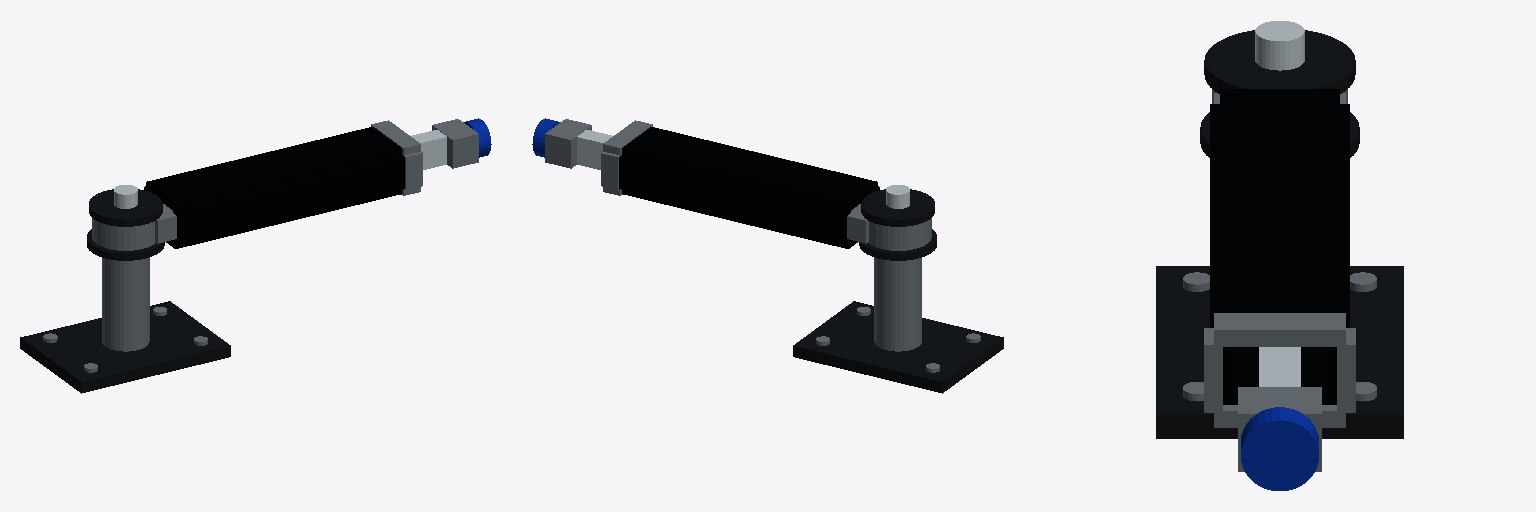
URDF robot description (hinged_extension_service_module):
<robot name="hinged_extension_service_module">
  <material name="dark_steel">
    <color rgba="0.09 0.1 0.11 1" />
    </material>
  <material name="cast_metal">
    <color rgba="0.42 0.45 0.47 1" />
    </material>
  <material name="rail_black">
    <color rgba="0.015 0.017 0.02 1" />
    </material>
  <material name="slide_chrome">
    <color rgba="0.72 0.76 0.78 1" />
    </material>
  <material name="rubber_blue">
    <color rgba="0.05 0.22 0.65 1" />
    </material>
  <link name="support">
    <visual name="base_plate">
      <origin xyz="0 0 0.0125" rpy="0 0 0" />
      <geometry>
        <box size="0.34 0.24 0.025" />
        </geometry>
      <material name="dark_steel">
        <color rgba="0.09 0.1 0.11 1" />
        </material>
      </visual>
    <visual name="pedestal">
      <origin xyz="0 0 0.1325" rpy="0 0 0" />
      <geometry>
        <cylinder radius="0.047" length="0.215" />
        </geometry>
      <material name="cast_metal">
        <color rgba="0.42 0.45 0.47 1" />
        </material>
      </visual>
    <visual name="lower_bearing">
      <origin xyz="0 0 0.244" rpy="0 0 0" />
      <geometry>
        <cylinder radius="0.077" length="0.016" />
        </geometry>
      <material name="dark_steel">
        <color rgba="0.09 0.1 0.11 1" />
        </material>
      </visual>
    <visual name="upper_bearing">
      <origin xyz="0 0 0.316" rpy="0 0 0" />
      <geometry>
        <cylinder radius="0.073" length="0.016" />
        </geometry>
      <material name="dark_steel">
        <color rgba="0.09 0.1 0.11 1" />
        </material>
      </visual>
    <visual name="hinge_pin">
      <origin xyz="0 0 0.28" rpy="0 0 0" />
      <geometry>
        <cylinder radius="0.024" length="0.15" />
        </geometry>
      <material name="slide_chrome">
        <color rgba="0.72 0.76 0.78 1" />
        </material>
      </visual>
    <visual name="mount_bolt_0_0">
      <origin xyz="-0.125 -0.08 0.0285" rpy="0 0 0" />
      <geometry>
        <cylinder radius="0.014" length="0.009" />
        </geometry>
      <material name="cast_metal">
        <color rgba="0.42 0.45 0.47 1" />
        </material>
      </visual>
    <visual name="mount_bolt_0_1">
      <origin xyz="-0.125 0.08 0.0285" rpy="0 0 0" />
      <geometry>
        <cylinder radius="0.014" length="0.009" />
        </geometry>
      <material name="cast_metal">
        <color rgba="0.42 0.45 0.47 1" />
        </material>
      </visual>
    <visual name="mount_bolt_1_0">
      <origin xyz="0.125 -0.08 0.0285" rpy="0 0 0" />
      <geometry>
        <cylinder radius="0.014" length="0.009" />
        </geometry>
      <material name="cast_metal">
        <color rgba="0.42 0.45 0.47 1" />
        </material>
      </visual>
    <visual name="mount_bolt_1_1">
      <origin xyz="0.125 0.08 0.0285" rpy="0 0 0" />
      <geometry>
        <cylinder radius="0.014" length="0.009" />
        </geometry>
      <material name="cast_metal">
        <color rgba="0.42 0.45 0.47 1" />
        </material>
      </visual>
    <collision name="base_plate">
      <origin xyz="0 0 0.0125" rpy="0 0 0" />
      <geometry>
        <box size="0.34 0.24 0.025" />
        </geometry>
      </collision>
    <collision name="pedestal">
      <origin xyz="0 0 0.1325" rpy="0 0 0" />
      <geometry>
        <cylinder radius="0.047" length="0.215" />
        </geometry>
      </collision>
    <collision name="lower_bearing">
      <origin xyz="0 0 0.244" rpy="0 0 0" />
      <geometry>
        <cylinder radius="0.077" length="0.016" />
        </geometry>
      </collision>
    <collision name="upper_bearing">
      <origin xyz="0 0 0.316" rpy="0 0 0" />
      <geometry>
        <cylinder radius="0.073" length="0.016" />
        </geometry>
      </collision>
    <collision name="hinge_pin">
      <origin xyz="0 0 0.28" rpy="0 0 0" />
      <geometry>
        <cylinder radius="0.024" length="0.15" />
        </geometry>
      </collision>
    <collision name="mount_bolt_0_0">
      <origin xyz="-0.125 -0.08 0.0285" rpy="0 0 0" />
      <geometry>
        <cylinder radius="0.014" length="0.009" />
        </geometry>
      </collision>
    <collision name="mount_bolt_0_1">
      <origin xyz="-0.125 0.08 0.0285" rpy="0 0 0" />
      <geometry>
        <cylinder radius="0.014" length="0.009" />
        </geometry>
      </collision>
    <collision name="mount_bolt_1_0">
      <origin xyz="0.125 -0.08 0.0285" rpy="0 0 0" />
      <geometry>
        <cylinder radius="0.014" length="0.009" />
        </geometry>
      </collision>
    <collision name="mount_bolt_1_1">
      <origin xyz="0.125 0.08 0.0285" rpy="0 0 0" />
      <geometry>
        <cylinder radius="0.014" length="0.009" />
        </geometry>
      </collision>
    </link>
  <link name="arm">
    <visual name="hinge_hub">
      <geometry>
        <cylinder radius="0.066" length="0.055" />
        </geometry>
      <material name="cast_metal">
        <color rgba="0.42 0.45 0.47 1" />
        </material>
      </visual>
    <visual name="upper_rail">
      <origin xyz="0.35 0 0.04" rpy="0 0 0" />
      <geometry>
        <box size="0.54 0.116 0.02" />
        </geometry>
      <material name="rail_black">
        <color rgba="0.015 0.017 0.02 1" />
        </material>
      </visual>
    <visual name="lower_rail">
      <origin xyz="0.35 0 -0.04" rpy="0 0 0" />
      <geometry>
        <box size="0.54 0.116 0.02" />
        </geometry>
      <material name="rail_black">
        <color rgba="0.015 0.017 0.02 1" />
        </material>
      </visual>
    <visual name="side_rail_0">
      <origin xyz="0.35 0.058 0" rpy="0 0 0" />
      <geometry>
        <box size="0.54 0.02 0.07" />
        </geometry>
      <material name="rail_black">
        <color rgba="0.015 0.017 0.02 1" />
        </material>
      </visual>
    <visual name="side_rail_1">
      <origin xyz="0.35 -0.058 0" rpy="0 0 0" />
      <geometry>
        <box size="0.54 0.02 0.07" />
        </geometry>
      <material name="rail_black">
        <color rgba="0.015 0.017 0.02 1" />
        </material>
      </visual>
    <visual name="root_clamp">
      <origin xyz="0.063 0 0" rpy="0 0 0" />
      <geometry>
        <box size="0.055 0.128 0.05" />
        </geometry>
      <material name="cast_metal">
        <color rgba="0.42 0.45 0.47 1" />
        </material>
      </visual>
    <visual name="distal_collar_top">
      <origin xyz="0.615 0 0.043" rpy="0 0 0" />
      <geometry>
        <box size="0.04 0.128 0.018" />
        </geometry>
      <material name="cast_metal">
        <color rgba="0.42 0.45 0.47 1" />
        </material>
      </visual>
    <visual name="distal_collar_bottom">
      <origin xyz="0.615 0 -0.043" rpy="0 0 0" />
      <geometry>
        <box size="0.04 0.128 0.018" />
        </geometry>
      <material name="cast_metal">
        <color rgba="0.42 0.45 0.47 1" />
        </material>
      </visual>
    <visual name="distal_collar_side_0">
      <origin xyz="0.615 0.064 0" rpy="0 0 0" />
      <geometry>
        <box size="0.04 0.018 0.072" />
        </geometry>
      <material name="cast_metal">
        <color rgba="0.42 0.45 0.47 1" />
        </material>
      </visual>
    <visual name="distal_collar_side_1">
      <origin xyz="0.615 -0.064 0" rpy="0 0 0" />
      <geometry>
        <box size="0.04 0.018 0.072" />
        </geometry>
      <material name="cast_metal">
        <color rgba="0.42 0.45 0.47 1" />
        </material>
      </visual>
    <collision name="hinge_hub">
      <geometry>
        <cylinder radius="0.066" length="0.055" />
        </geometry>
      </collision>
    <collision name="upper_rail">
      <origin xyz="0.35 0 0.04" rpy="0 0 0" />
      <geometry>
        <box size="0.54 0.116 0.02" />
        </geometry>
      </collision>
    <collision name="lower_rail">
      <origin xyz="0.35 0 -0.04" rpy="0 0 0" />
      <geometry>
        <box size="0.54 0.116 0.02" />
        </geometry>
      </collision>
    <collision name="side_rail_0">
      <origin xyz="0.35 0.058 0" rpy="0 0 0" />
      <geometry>
        <box size="0.54 0.02 0.07" />
        </geometry>
      </collision>
    <collision name="side_rail_1">
      <origin xyz="0.35 -0.058 0" rpy="0 0 0" />
      <geometry>
        <box size="0.54 0.02 0.07" />
        </geometry>
      </collision>
    <collision name="root_clamp">
      <origin xyz="0.063 0 0" rpy="0 0 0" />
      <geometry>
        <box size="0.055 0.128 0.05" />
        </geometry>
      </collision>
    <collision name="distal_collar_top">
      <origin xyz="0.615 0 0.043" rpy="0 0 0" />
      <geometry>
        <box size="0.04 0.128 0.018" />
        </geometry>
      </collision>
    <collision name="distal_collar_bottom">
      <origin xyz="0.615 0 -0.043" rpy="0 0 0" />
      <geometry>
        <box size="0.04 0.128 0.018" />
        </geometry>
      </collision>
    <collision name="distal_collar_side_0">
      <origin xyz="0.615 0.064 0" rpy="0 0 0" />
      <geometry>
        <box size="0.04 0.018 0.072" />
        </geometry>
      </collision>
    <collision name="distal_collar_side_1">
      <origin xyz="0.615 -0.064 0" rpy="0 0 0" />
      <geometry>
        <box size="0.04 0.018 0.072" />
        </geometry>
      </collision>
    </link>
  <link name="output_member">
    <visual name="slide_bar">
      <origin xyz="-0.08 0 0" rpy="0 0 0" />
      <geometry>
        <box size="0.44 0.04 0.06" />
        </geometry>
      <material name="slide_chrome">
        <color rgba="0.72 0.76 0.78 1" />
        </material>
      </visual>
    <visual name="end_block">
      <origin xyz="0.17 0 0" rpy="0 0 0" />
      <geometry>
        <box size="0.06 0.082 0.062" />
        </geometry>
      <material name="cast_metal">
        <color rgba="0.42 0.45 0.47 1" />
        </material>
      </visual>
    <visual name="output_pad">
      <origin xyz="0.215 0 0" rpy="0 1.5708 0" />
      <geometry>
        <cylinder radius="0.038" length="0.03" />
        </geometry>
      <material name="rubber_blue">
        <color rgba="0.05 0.22 0.65 1" />
        </material>
      </visual>
    <collision name="slide_bar">
      <origin xyz="-0.08 0 0" rpy="0 0 0" />
      <geometry>
        <box size="0.44 0.04 0.06" />
        </geometry>
      </collision>
    <collision name="end_block">
      <origin xyz="0.17 0 0" rpy="0 0 0" />
      <geometry>
        <box size="0.06 0.082 0.062" />
        </geometry>
      </collision>
    <collision name="output_pad">
      <origin xyz="0.215 0 0" rpy="0 1.5708 0" />
      <geometry>
        <cylinder radius="0.038" length="0.03" />
        </geometry>
      </collision>
    </link>
  <joint name="base_hinge" type="revolute">
    <origin xyz="0 0 0.28" rpy="0 0 0" />
    <parent link="support" />
    <child link="arm" />
    <axis xyz="0 0 1" />
    <limit effort="30" velocity="1.5" lower="-1.05" upper="1.05" />
    </joint>
  <joint name="extension_slide" type="prismatic">
    <origin xyz="0.58 0 0" rpy="0 0 0" />
    <parent link="arm" />
    <child link="output_member" />
    <axis xyz="1 0 0" />
    <limit effort="70" velocity="0.35" lower="0" upper="0.22" />
    </joint>
  </robot>

--- What the picture shows (computed from the rendered views, not written in the file) ---
Views: 3 orthographic renders of the robot side by side, from view 1: azimuth 30°, elevation 25°; view 2: azimuth 150°, elevation 25°; view 3: azimuth 270°, elevation 25°.
Model hinged_extension_service_module with 3 links and 2 joints (1 revolute, 1 prismatic), rooted at support, posed all joints at 0.
Visible links, largest first — view 1: arm, support, output_member; view 2: arm, support, output_member; view 3: arm, support, output_member.
Link boxes in pixels (box(x1,y1,x2,y2)): arm: box(92, 120, 422, 250); support: box(20, 185, 230, 393); output_member: box(411, 118, 491, 169); arm: box(601, 120, 931, 250); support: box(793, 185, 1003, 393); output_member: box(532, 118, 612, 169); arm: box(1204, 89, 1355, 427); support: box(1156, 21, 1403, 438); output_member: box(1238, 347, 1321, 490).
Bounding box of the posed robot: 0.98 × 0.24 × 0.355 m (x, y, z).
Geometry: primitives only (box / cylinder / sphere), no mesh files.
